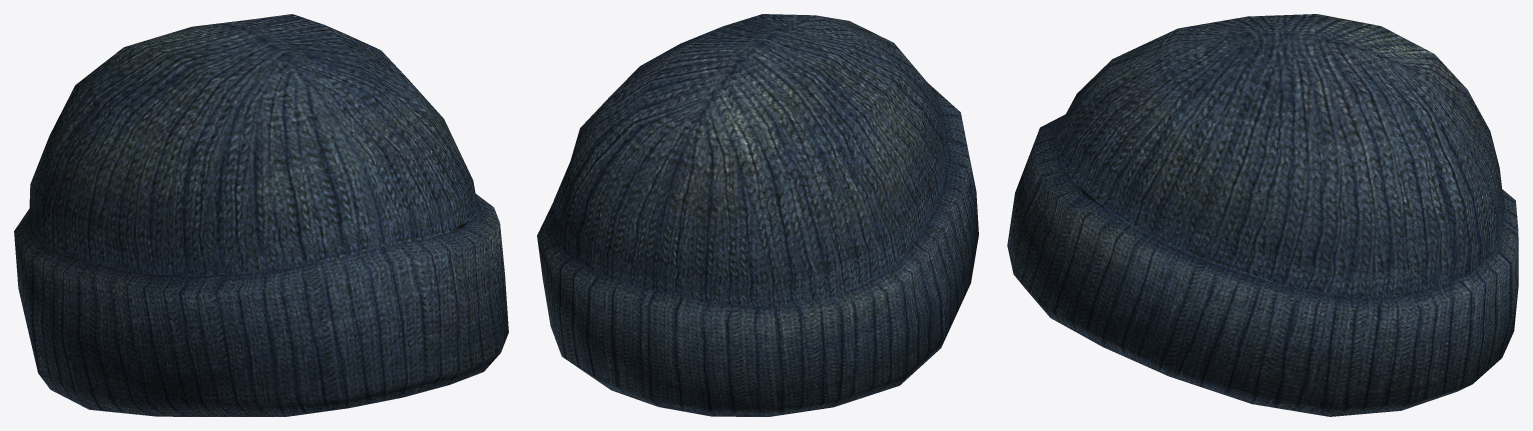
The model's file is Hat 3.FBX.
The picture shows the model from 3 angles, left to right: view 1: azimuth 30°, elevation 25°; view 2: azimuth 150°, elevation 25°; view 3: azimuth 270°, elevation 25°; orthographic projection. The views are drawn at different scales.
Parts seen in each view (by area): view 1: hat 3; view 2: hat 3; view 3: hat 3.
Boxes of the visible parts, x1=… form: hat 3: x1=14, y1=14, x2=508, y2=416; hat 3: x1=537, y1=14, x2=978, y2=416; hat 3: x1=1007, y1=14, x2=1518, y2=416.
Size of the model in its own units: 50.68 by 59.45 by 39.63.
Materials: 1 (1 with a texture image).
